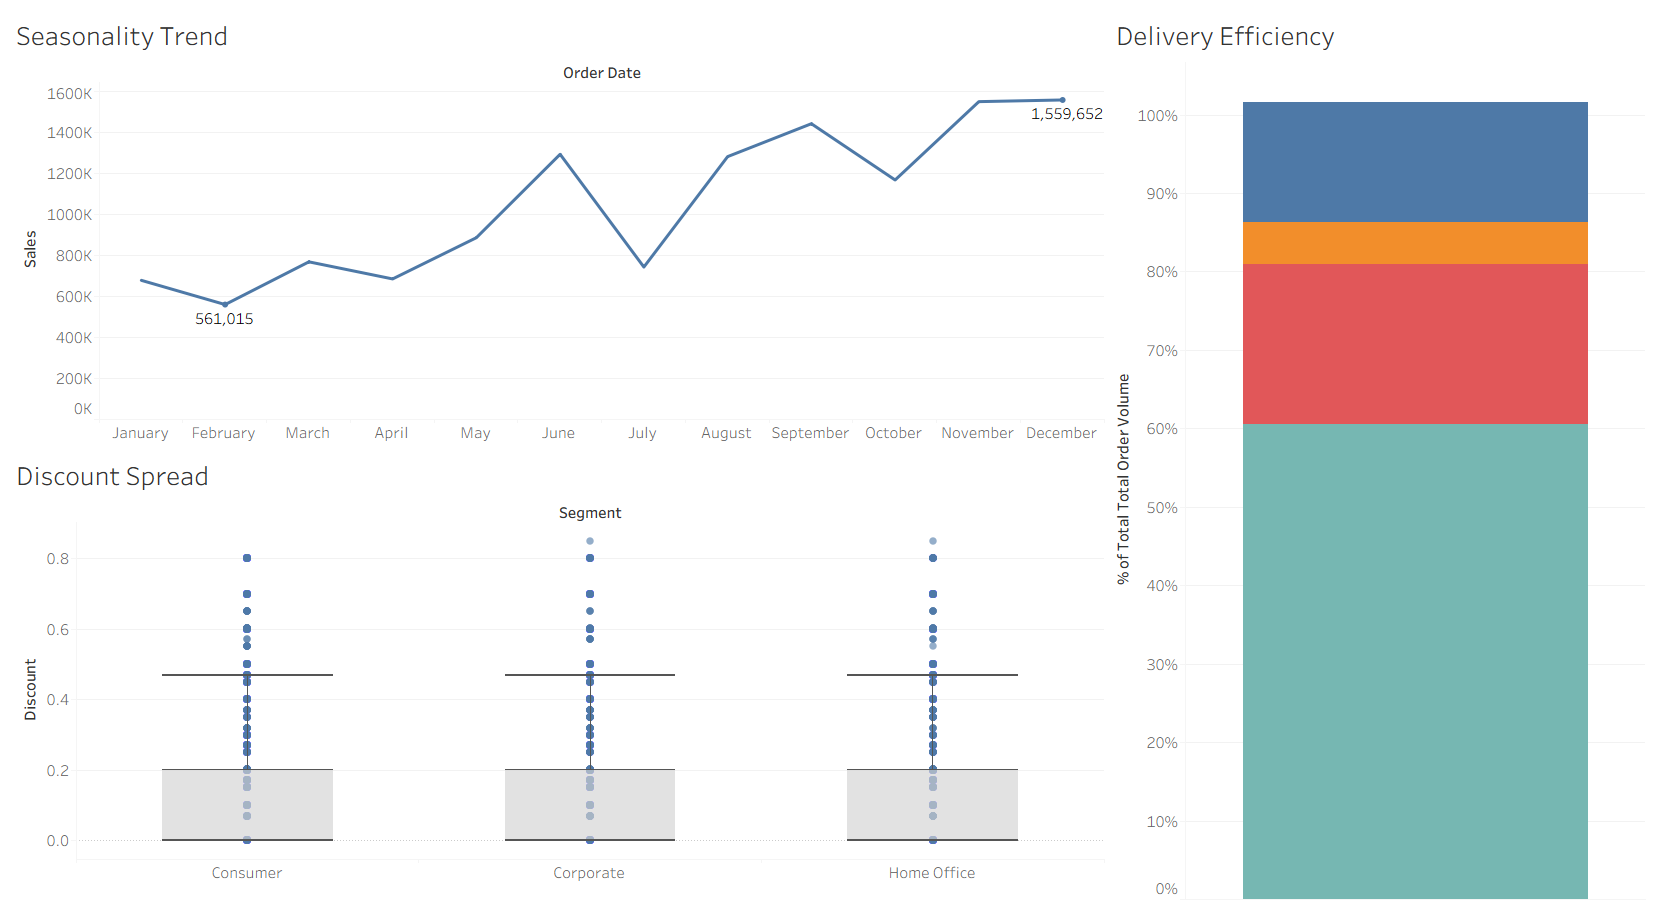

What the dashboard file says about the page in this screenshot:
{"tool":"tableau","page":{"name":"Dashboard 4","canvas":[1000,1000],"units":"permille","ordinal":3},"visuals":[{"type":"worksheet","title":"ST","mark":"Line","rows":["Sales"],"cols":["Order Date"],"box":[4.7,8.8,663.9,483]},{"type":"worksheet","title":"DE","mark":"Automatic","box":[668.6,8.8,326.8,982.4]},{"type":"worksheet","title":"DS","mark":"Circle","rows":["Discount"],"cols":["Segment"],"box":[4.7,491.8,663.9,499.4]}]}

Visuals, with their boxes on the dashboard's canvas, which has no fixed pixel size, in thousandths of its width and height (x1, y1, x2, y2). These are canvas units, not pixel positions in the 1657x911 screenshot, which may show the page scaled, cropped or inside an application window:
"ST" worksheet (Line marks): x1=5 y1=9 x2=669 y2=492
"DE" worksheet: x1=669 y1=9 x2=995 y2=991
"DS" worksheet (Circle marks): x1=5 y1=492 x2=669 y2=991
